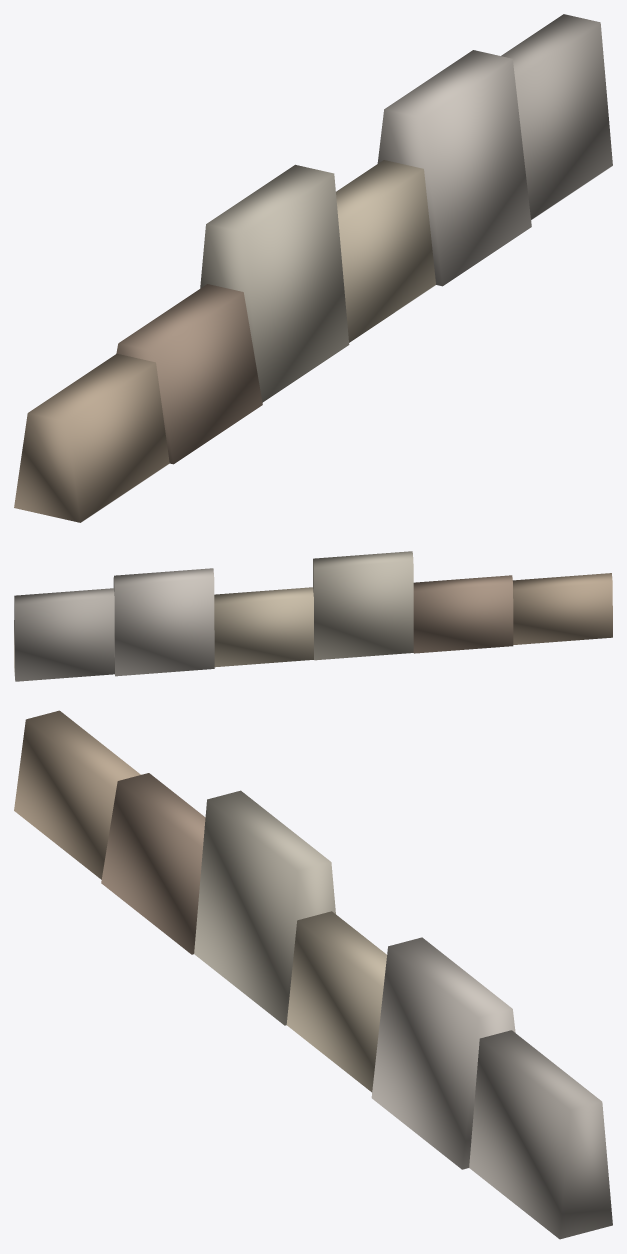
File: farm_-14_-11_collision.glb
3 views of the same model, one above another, from view 1: azimuth 30°, elevation 25°; view 2: azimuth 150°, elevation 25°; view 3: azimuth 270°, elevation 25° (orthographic). The views are drawn at different scales.
Parts seen in each view (by area): view 1: geometry_0; view 2: geometry_0; view 3: geometry_0.
Part boxes in pixels (x1=…): geometry_0: x1=14, y1=14, x2=612, y2=522; geometry_0: x1=14, y1=551, x2=612, y2=681; geometry_0: x1=14, y1=710, x2=612, y2=1239.
Bounding box in the file's own units: 8.41 × 1.97 × 5.57.
